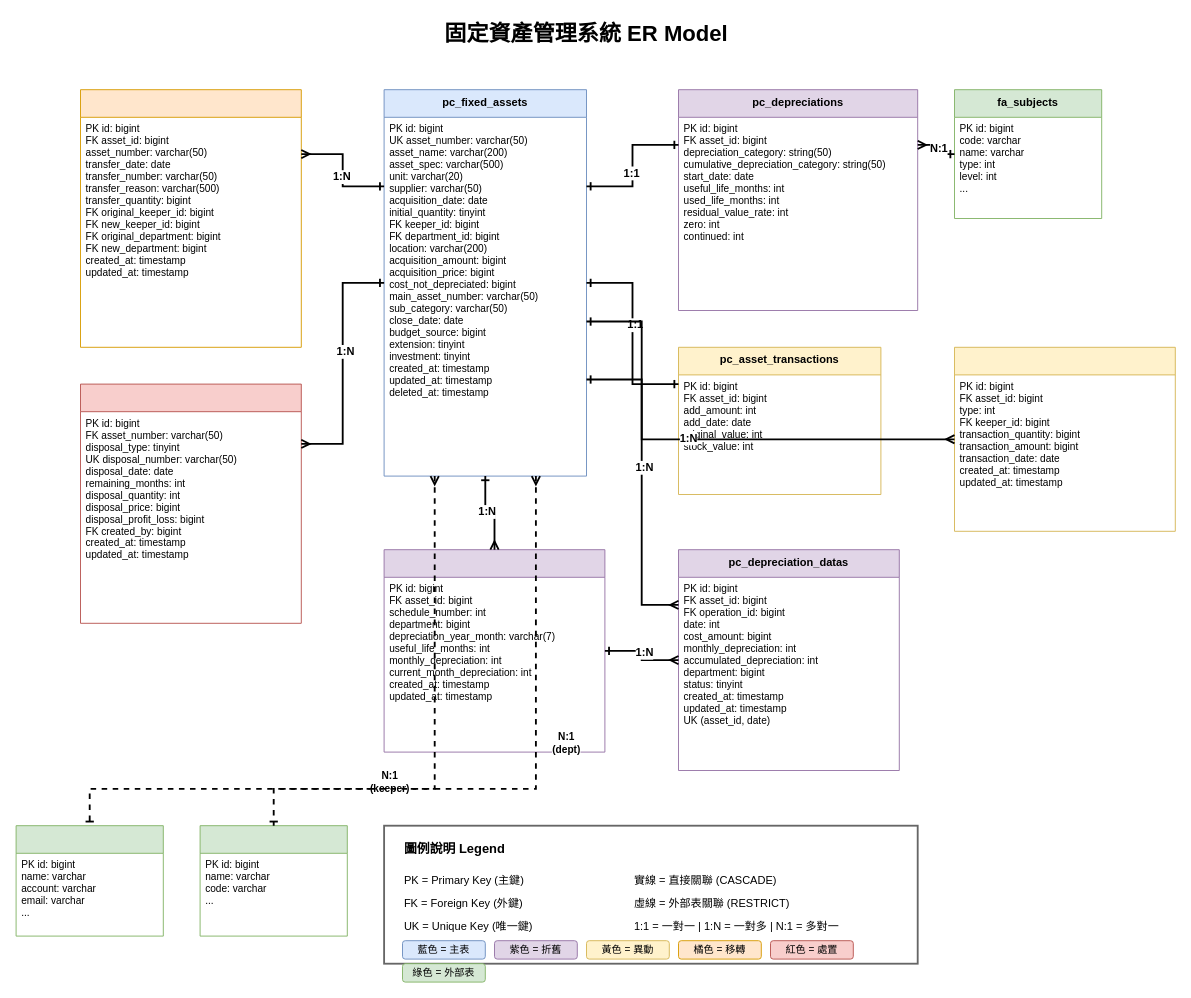
This 1191x998 diagram has some shape labels left out. Each missing label, with the box of its shape:
pc_asset_disposals: (80, 383, 301, 623)
pc_asset_transaction_details: (954, 346, 1175, 531)
pc_asset_transfers: (80, 89, 301, 347)
pc_depreciation_operations: (383, 549, 605, 752)
sc_departments: (199, 825, 347, 936)
sc_users: (15, 825, 163, 936)
